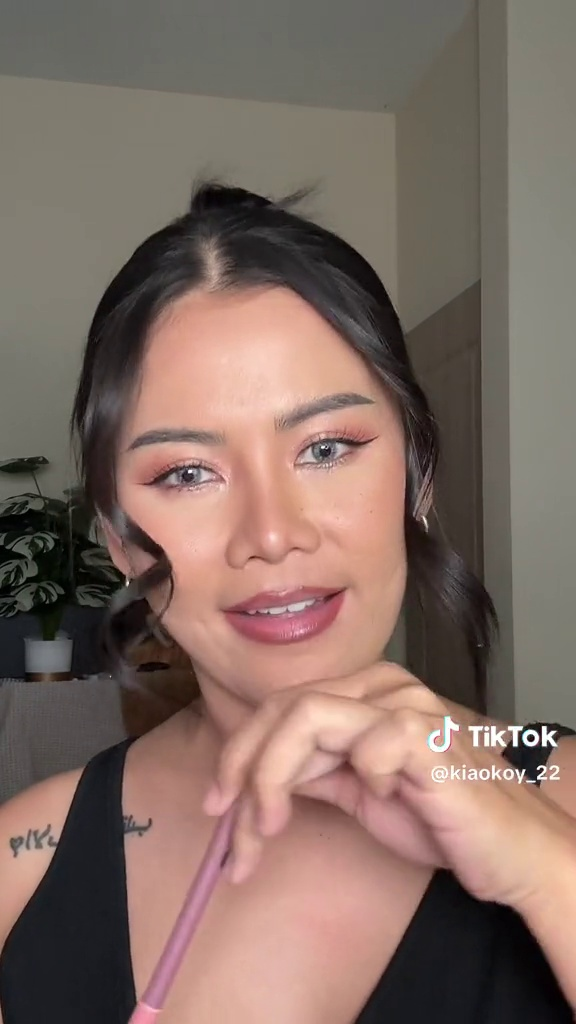train' :'yolo_data/train/images',: (110, 765, 256, 1023)
